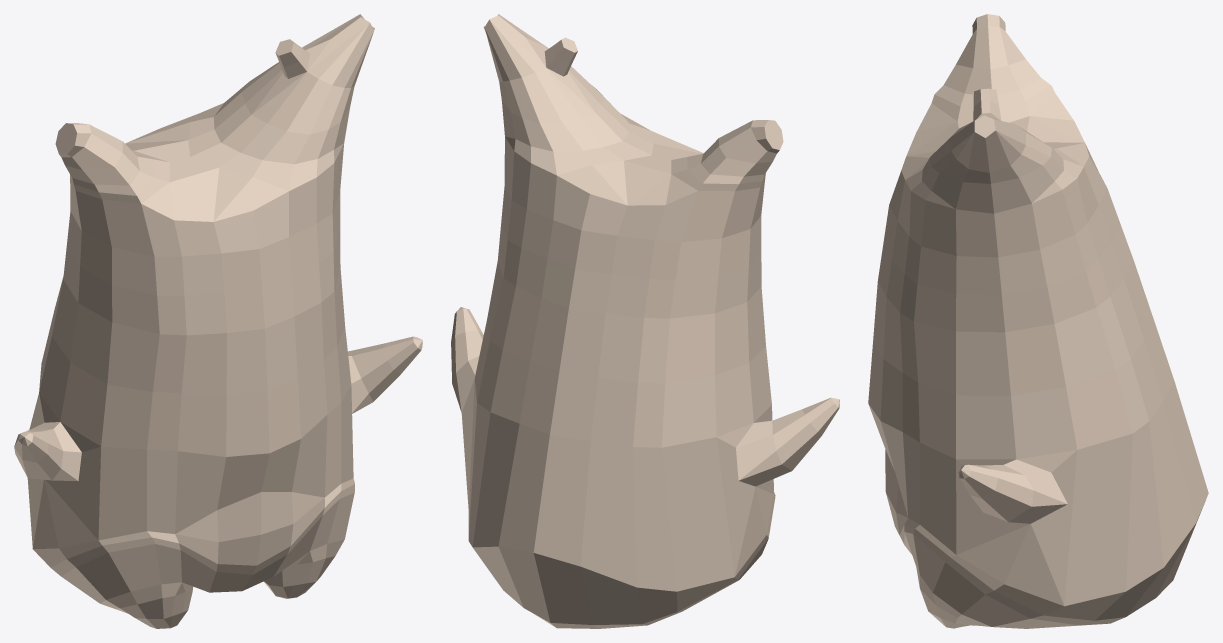
Rendered from frame_0105.obj.
3 renders of one model, left to right at view 1: azimuth 30°, elevation 25°; view 2: azimuth 150°, elevation 25°; view 3: azimuth 270°, elevation 25°, orthographic. The views are drawn at different scales.
Visible parts, largest first — view 1: korok; view 2: korok; view 3: korok.
Part boxes in pixels (<box>): korok: <box>14,14,422,628</box>; korok: <box>451,14,839,628</box>; korok: <box>868,14,1208,628</box>.
Size of the model in its own units: 1.47 by 1.93 by 1.07.
